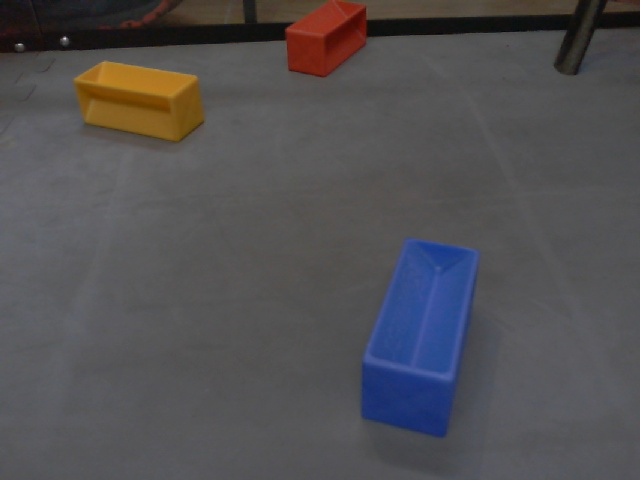BlueSample: (360, 230, 478, 438)
RedSample: (283, 1, 369, 80)
YellowSample: (71, 58, 206, 147)
